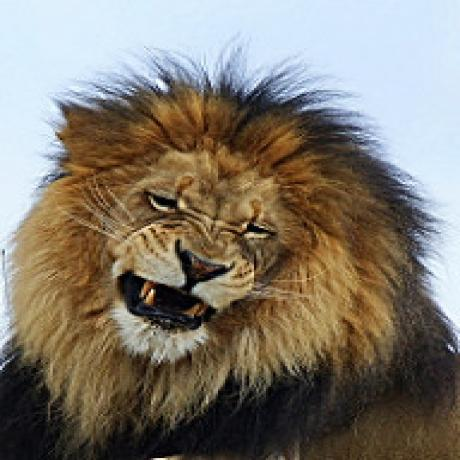Lion: (5, 52, 460, 460)
